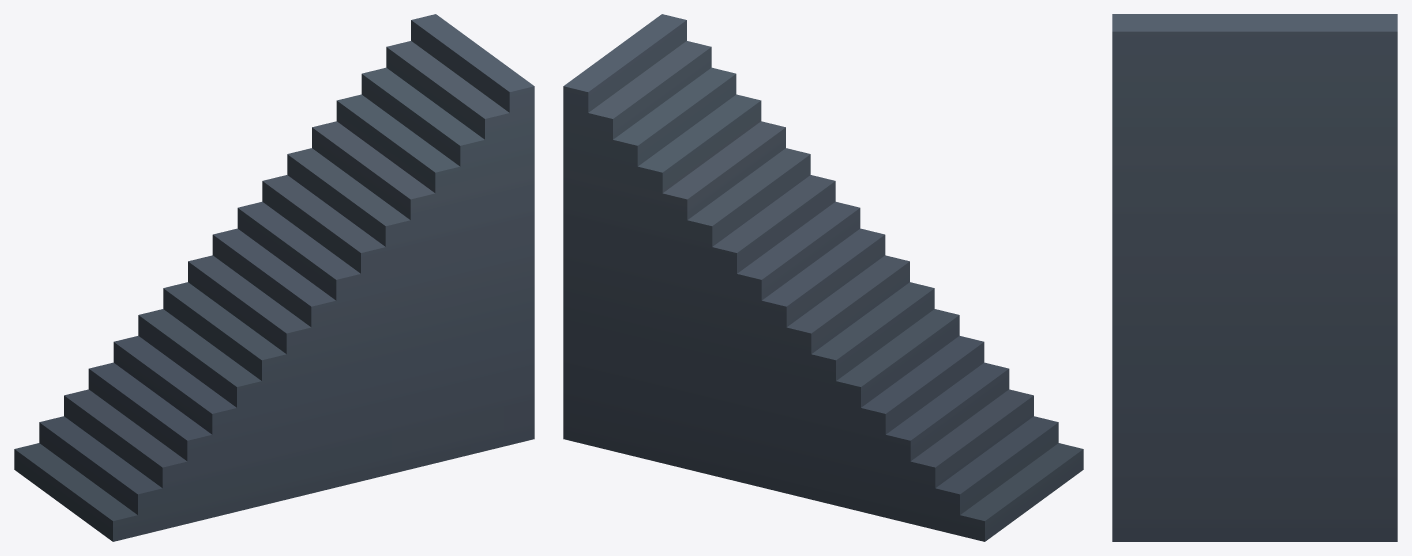
The model's file is Stairs_C_1_2.fbx.
3 renders of one model, left to right at view 1: azimuth 30°, elevation 25°; view 2: azimuth 150°, elevation 25°; view 3: azimuth 270°, elevation 25°, orthographic. The views are drawn at different scales.
Parts seen in each view (by area): view 1: Stairs_C_1_2; view 2: Stairs_C_1_2; view 3: Stairs_C_1_2.
Part boxes in pixels (<box>): Stairs_C_1_2: <box>14,14,534,541</box>; Stairs_C_1_2: <box>563,14,1083,541</box>; Stairs_C_1_2: <box>1112,14,1397,541</box>.
Size of the model in its own units: 340 by 272 by 138.
